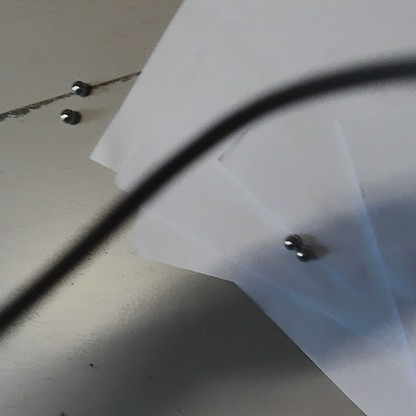ironball: (56, 106, 77, 127), (69, 76, 89, 97), (292, 243, 308, 264), (282, 232, 297, 251)
